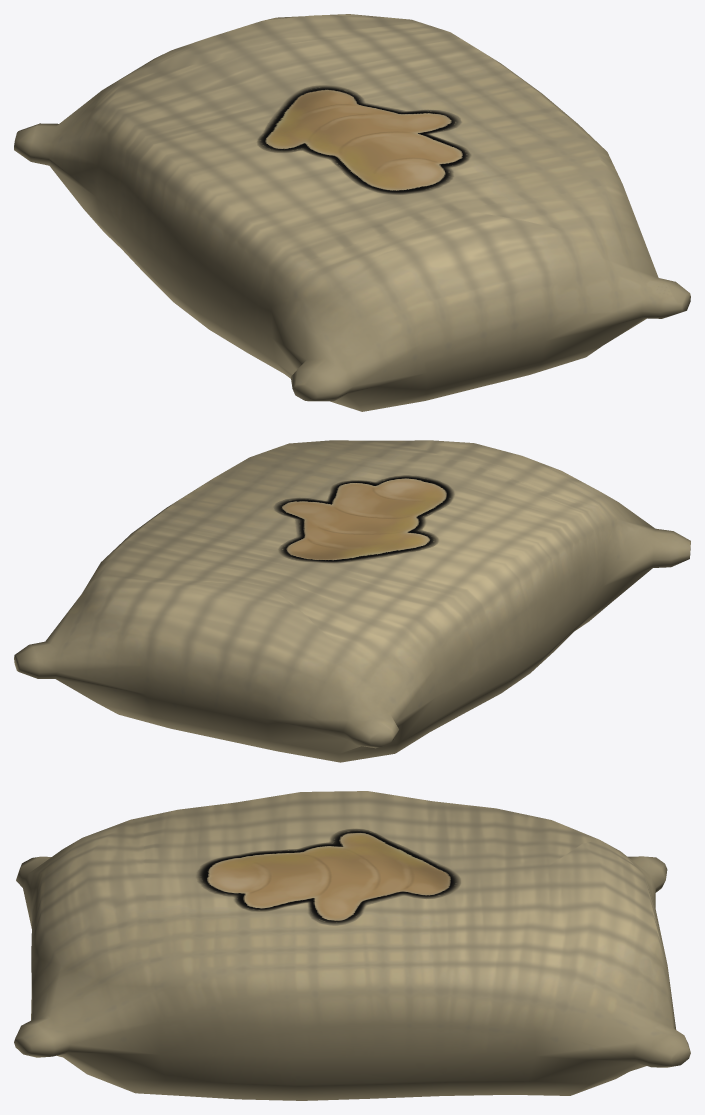
The model's file is Model_TexturaSacoQuadradoGengibre_v1.fbx.
3 views of the same model, one above another, from view 1: azimuth 30°, elevation 25°; view 2: azimuth 150°, elevation 25°; view 3: azimuth 270°, elevation 25° (orthographic). The views are drawn at different scales.
Parts seen in each view (by area): view 1: Plane.004; view 2: Plane.004; view 3: Plane.004.
Boxes of the visible parts, box(x1,y1,x2,y2) form: Plane.004: box(14, 14, 690, 411); Plane.004: box(14, 440, 690, 762); Plane.004: box(14, 791, 690, 1100).
Size of the model in its own units: 246 by 86.33 by 337.
